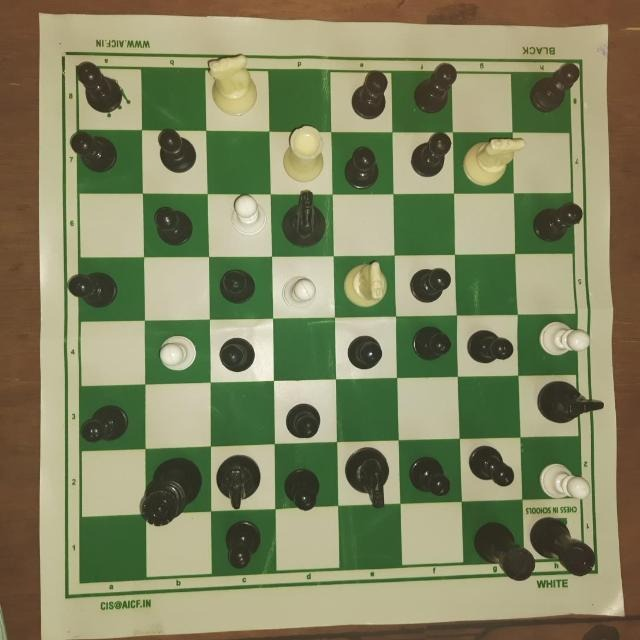black-knight: (208, 532, 266, 606), (134, 343, 194, 408), (393, 282, 451, 338), (134, 215, 182, 263)
black-pawn: (525, 67, 579, 131), (524, 526, 578, 581), (523, 409, 577, 463), (144, 466, 198, 517), (470, 66, 514, 127), (392, 528, 438, 586), (328, 64, 368, 128), (194, 77, 242, 130), (142, 410, 190, 460), (72, 220, 119, 271), (463, 151, 511, 199), (463, 407, 513, 453), (131, 281, 175, 328), (521, 347, 575, 385), (330, 411, 380, 451), (394, 155, 438, 199), (451, 342, 501, 379), (202, 283, 243, 328), (277, 463, 313, 514), (277, 410, 321, 450), (334, 219, 372, 260), (270, 219, 306, 260), (268, 349, 309, 383)
black-queen: (114, 142, 186, 209)
black-rook: (62, 532, 134, 603), (54, 471, 120, 534)
white-knight: (521, 203, 589, 270), (453, 459, 511, 524), (328, 340, 384, 397)
white-pawn: (397, 230, 459, 270), (139, 532, 178, 595), (283, 535, 323, 587), (270, 159, 312, 206), (331, 283, 367, 321)
white-rook: (453, 278, 515, 330)
